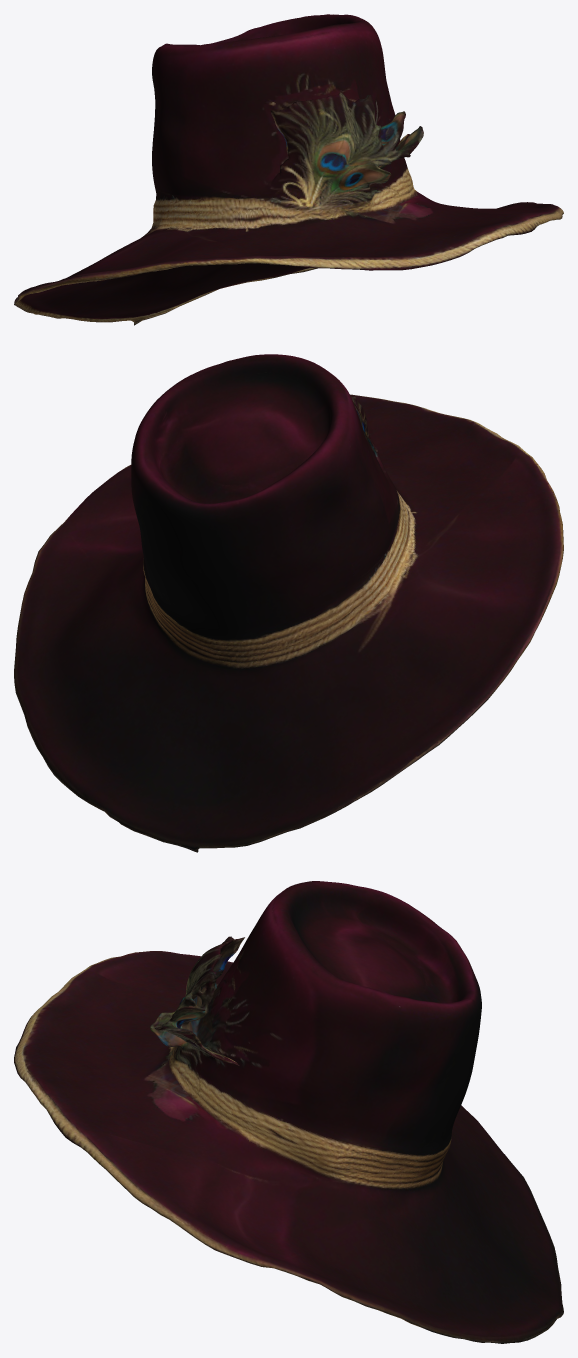
The model's file is hat.glb.
The picture shows the model from 3 angles, top to bottom: view 1: azimuth 30°, elevation 25°; view 2: azimuth 150°, elevation 25°; view 3: azimuth 270°, elevation 25°; orthographic projection. The views are drawn at different scales.
Size of the model in its own units: 1.99 by 1.5 by 1.85.
1 material, 1 textured.
